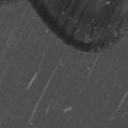corrosion: (28, 1, 128, 55)
